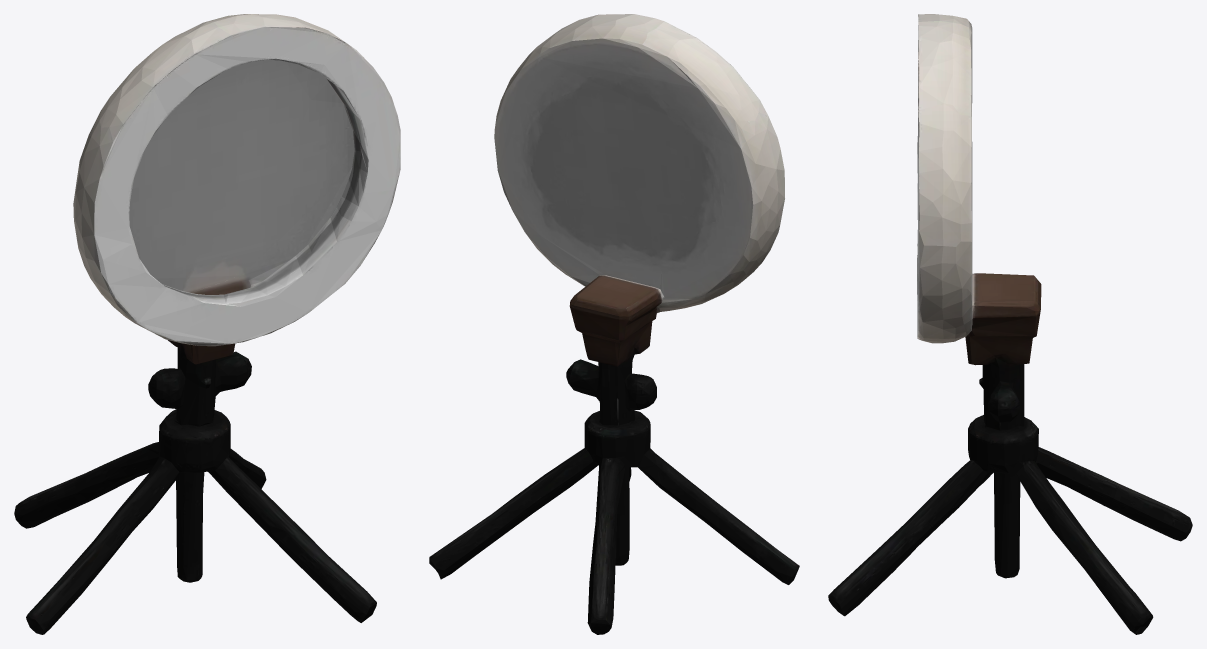
File: ring_light_on_tripod_stand.glb
The picture shows the model from 3 angles, left to right: view 1: azimuth 30°, elevation 25°; view 2: azimuth 150°, elevation 25°; view 3: azimuth 270°, elevation 25°; orthographic projection. The views are drawn at different scales.
Visible parts, largest first — view 1: geometry_0; view 2: geometry_0; view 3: geometry_0.
Boxes of the visible parts, x1=… form: geometry_0: x1=14, y1=14, x2=400, y2=634; geometry_0: x1=429, y1=14, x2=799, y2=634; geometry_0: x1=828, y1=14, x2=1192, y2=634.
Size of the model in its own units: 0.6291 by 0.9998 by 0.5988.
Materials: 1 (1 with a texture image).
